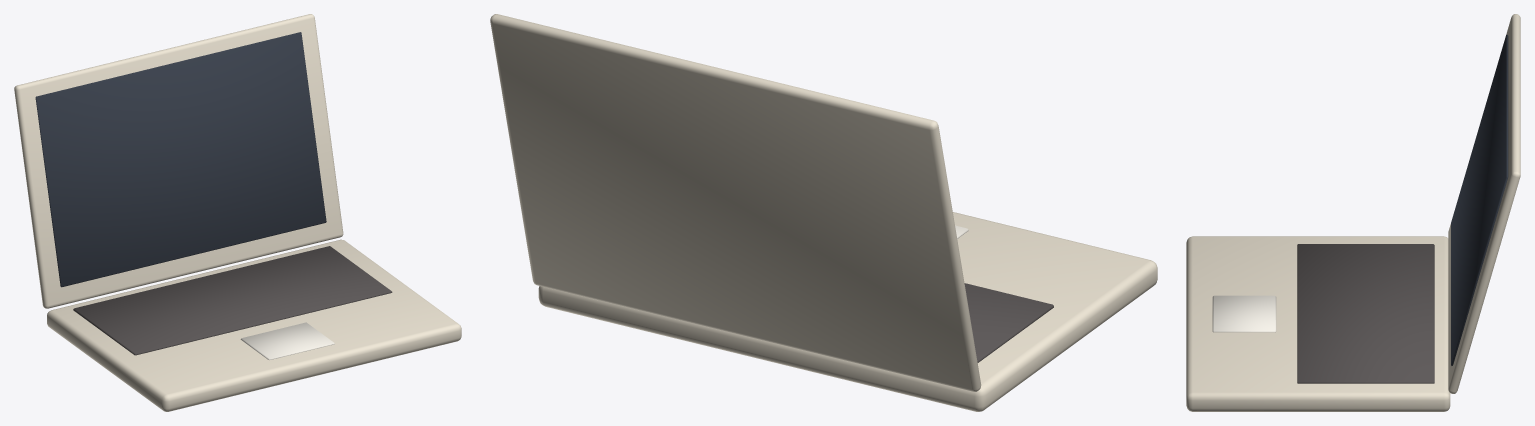
Rendered from classic_laptop.glb.
3 renders of one model, left to right at view 1: azimuth 30°, elevation 25°; view 2: azimuth 150°, elevation 25°; view 3: azimuth 270°, elevation 25°, orthographic. The views are drawn at different scales.
Parts seen in each view (by area): view 1: classic_laptop_screen, classic_laptop_base, classic_laptop_lid, classic_laptop_keys, classic_laptop_pad; view 2: classic_laptop_lid, classic_laptop_base, classic_laptop_keys; view 3: classic_laptop_base, classic_laptop_keys, classic_laptop_screen, classic_laptop_lid, classic_laptop_pad.
Part boxes in pixels (box(x1,y1,x2,y2)): classic_laptop_screen: box(35, 32, 326, 287); classic_laptop_base: box(47, 239, 461, 411); classic_laptop_lid: box(14, 14, 343, 308); classic_laptop_keys: box(73, 246, 392, 355); classic_laptop_pad: box(240, 322, 334, 359); classic_laptop_lid: box(490, 14, 981, 391); classic_laptop_base: box(538, 212, 1157, 411); classic_laptop_keys: box(964, 283, 1053, 362); classic_laptop_base: box(1186, 236, 1450, 411); classic_laptop_keys: box(1297, 244, 1434, 383); classic_laptop_screen: box(1451, 34, 1508, 365); classic_laptop_lid: box(1448, 14, 1520, 393); classic_laptop_pad: box(1212, 295, 1276, 332).
Size of the model in its own units: 0.36 by 0.2517 by 0.3165.
